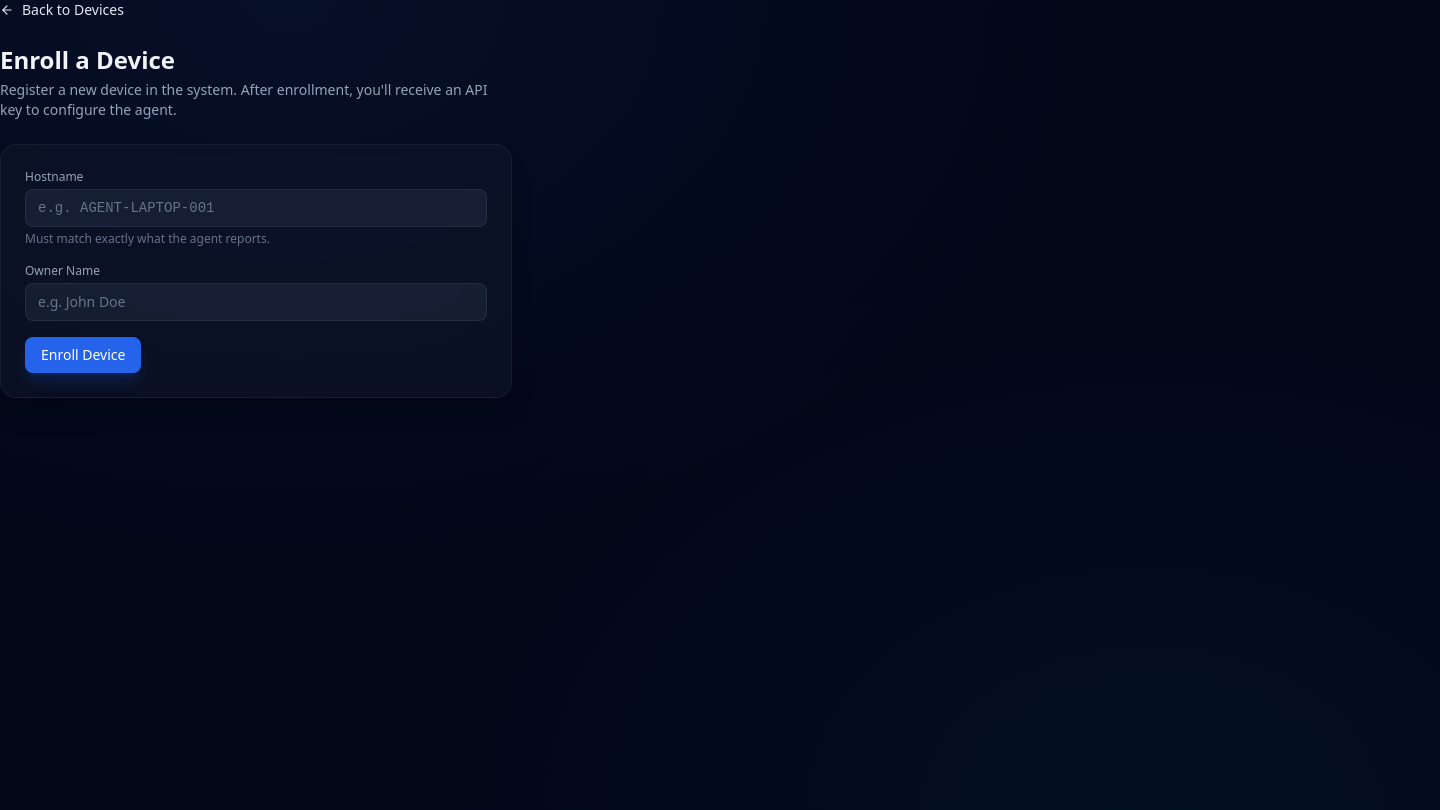
EnrollPage › Enrollment success view › shows device details after successful enrollment
Type "TEST-LAPTOP-001" into the field with placeholder "e.g. AGENT-LAPTOP-001".
click(256, 208); type("TEST-LAPTOP-001")  # box [25, 189, 487, 227]
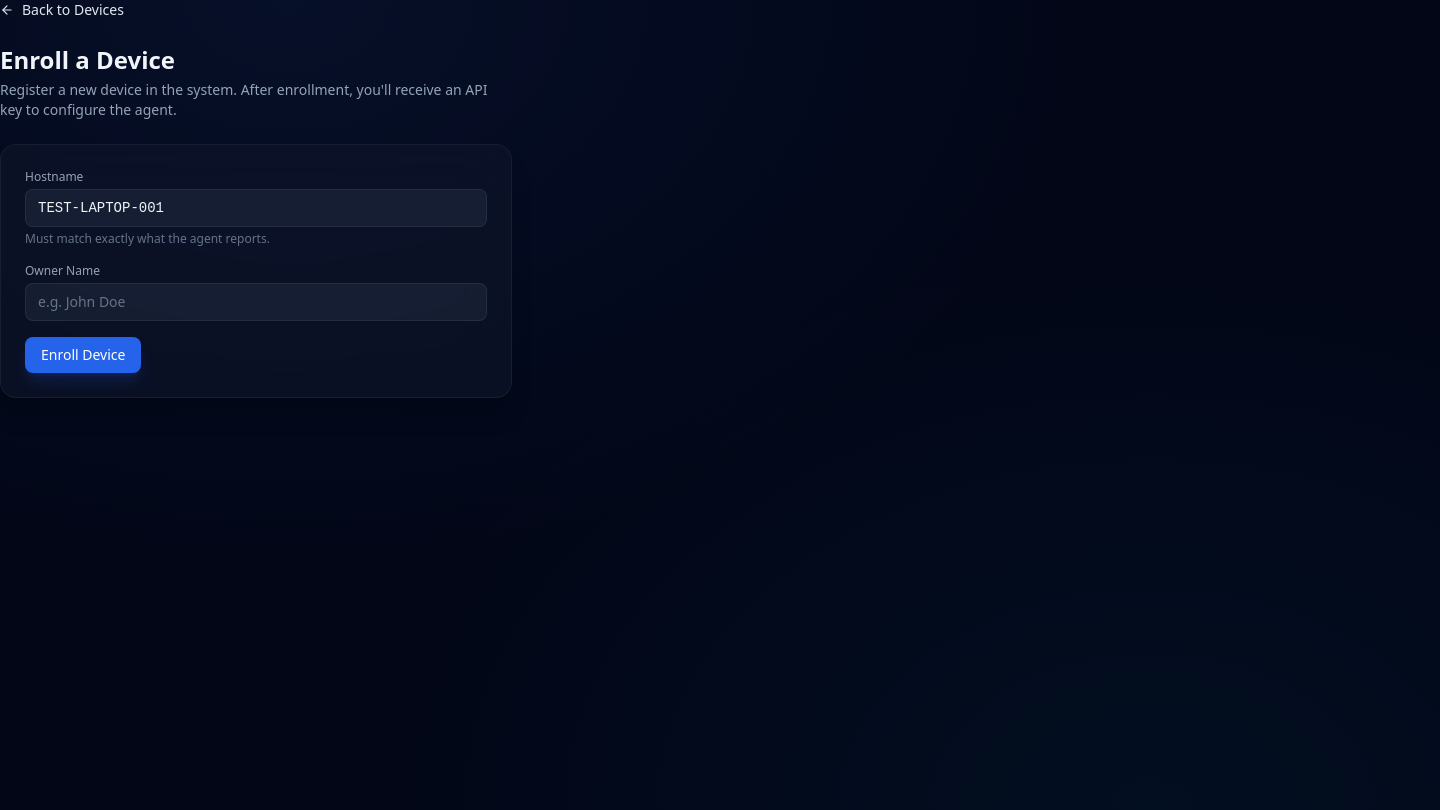
Type "Test Owner" into the field with placeholder "e.g. John Doe".
click(256, 302); type("Test Owner")  # box [25, 283, 487, 321]
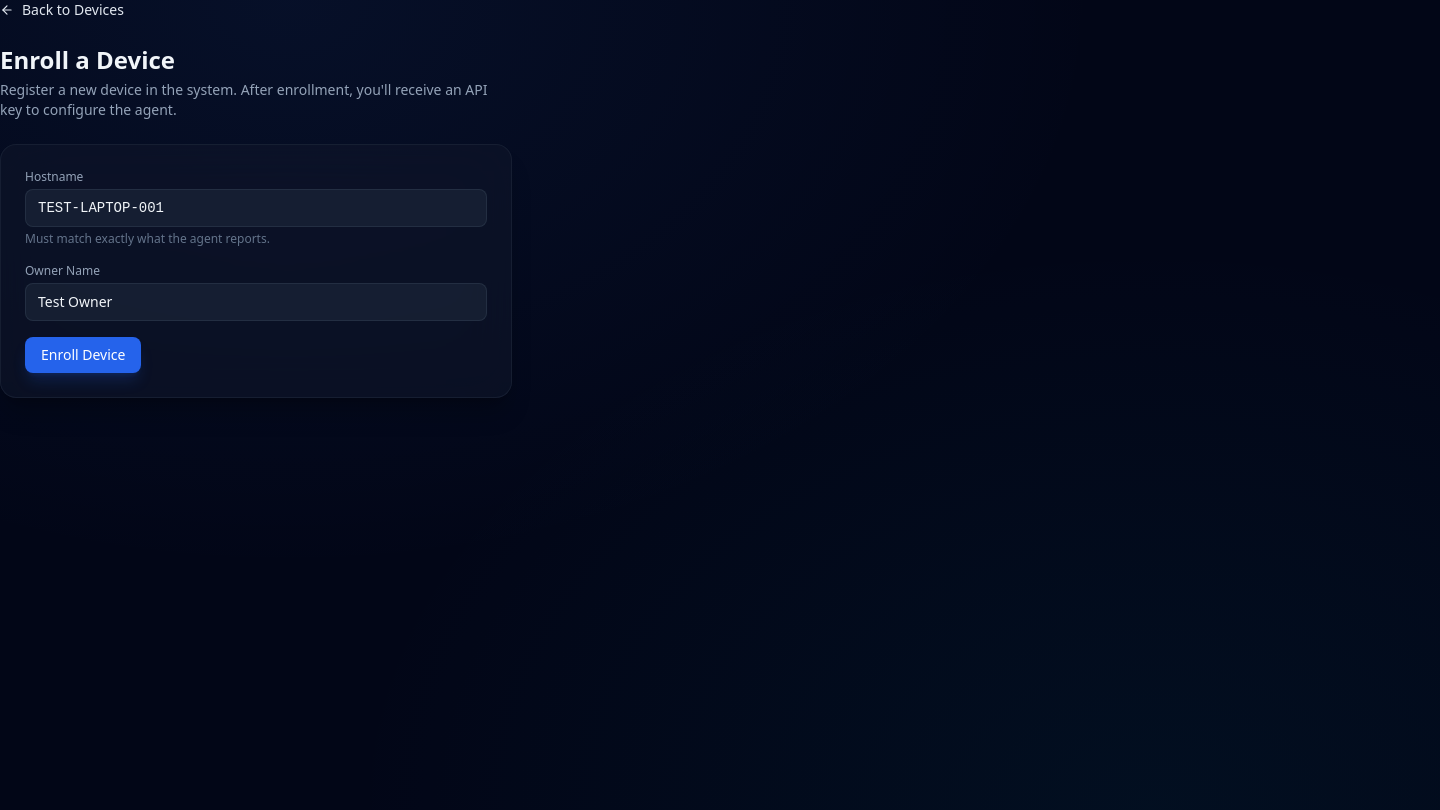
Click the button "Enroll Device".
click(83, 355)  # box [25, 337, 142, 373]
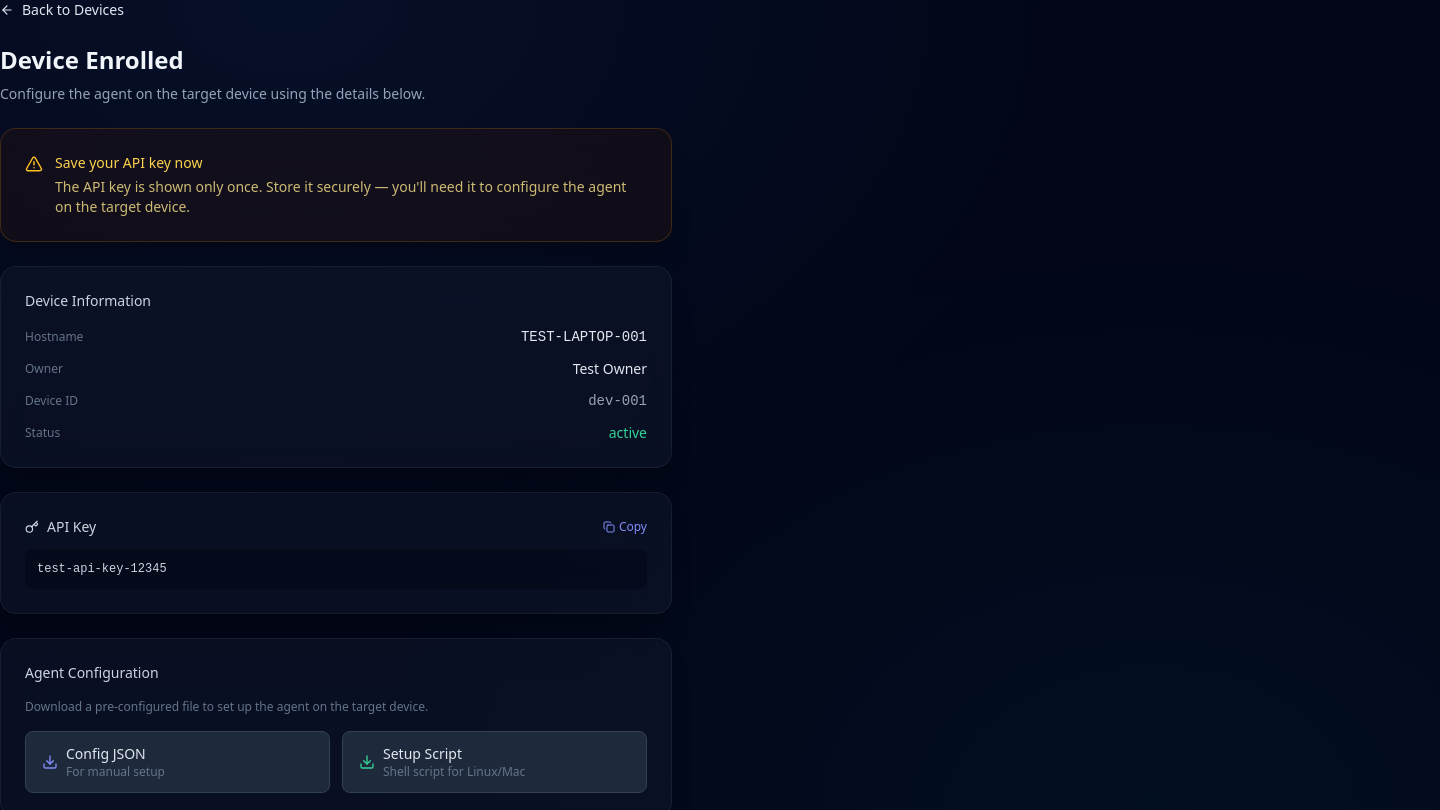
Result: the heading "Device Enrolled" is shown at [0, 43, 184, 76]
Result: the text "TEST-LAPTOP-001" is shown at [521, 327, 647, 347]
Result: the text "Test Owner" is shown at [573, 359, 647, 379]
